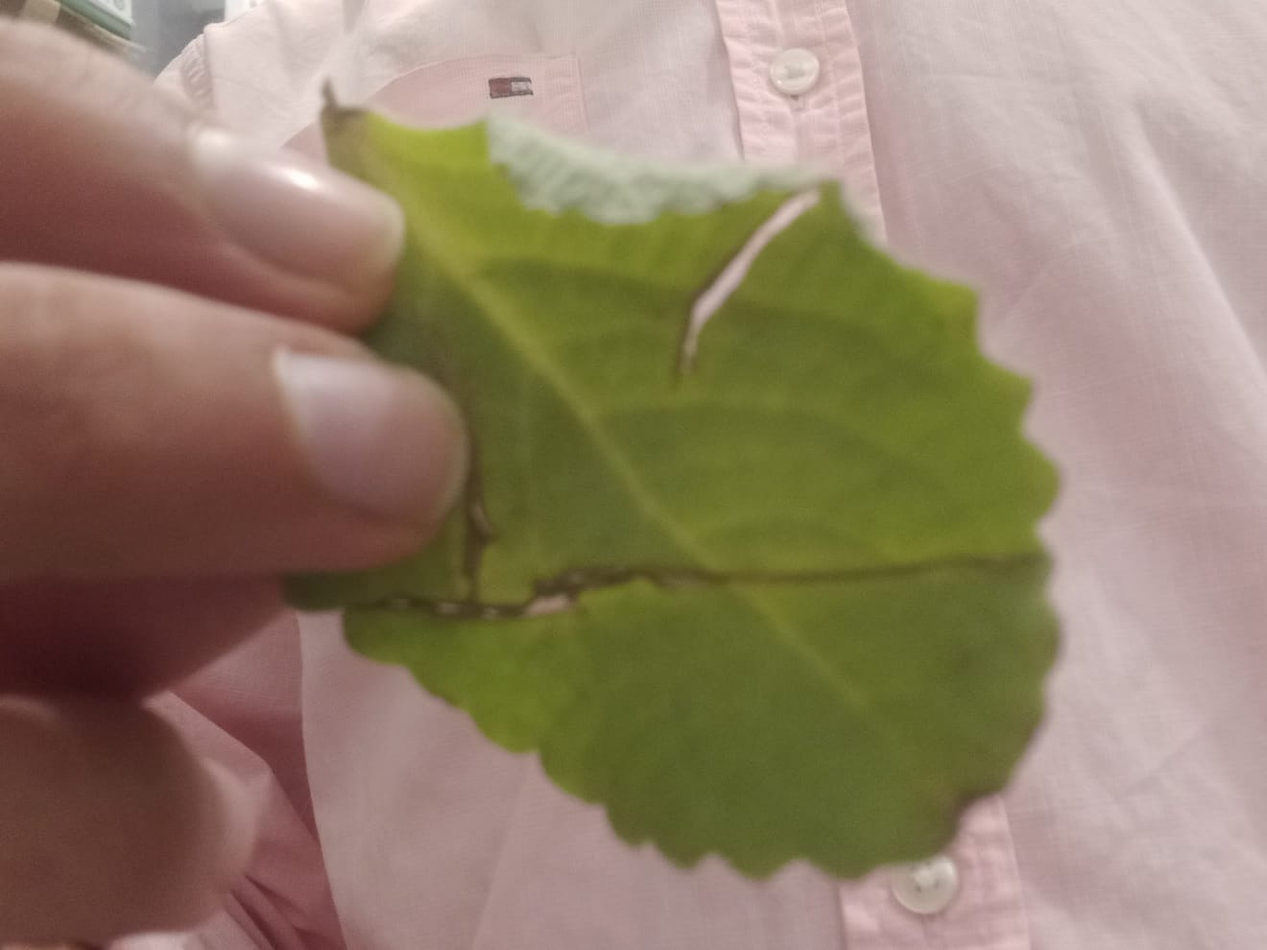Organico: (282, 83, 1068, 884)
